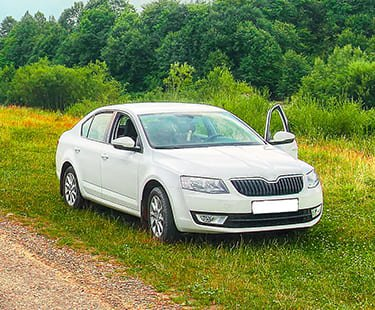car: (51, 98, 325, 232)
